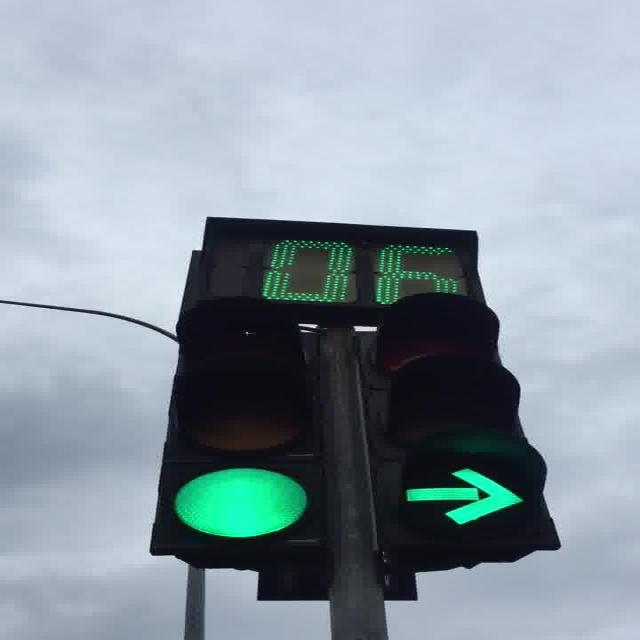traffic light: (150, 216, 562, 612), (369, 291, 563, 576), (150, 294, 333, 575)
